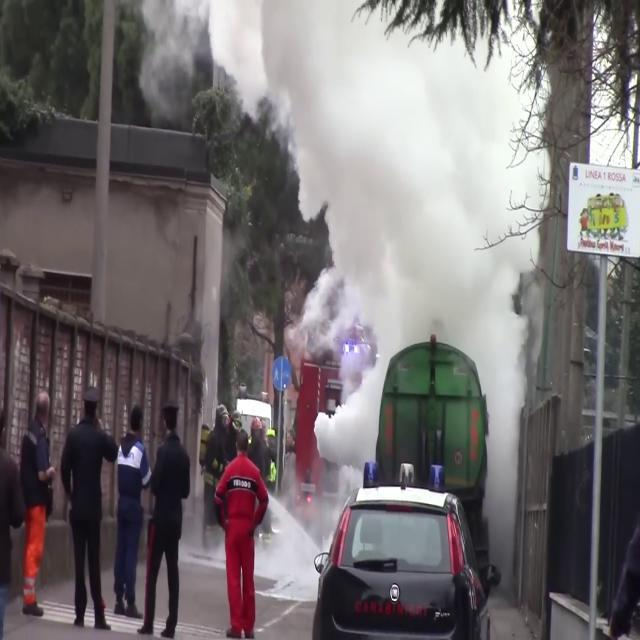Fire: (21, 501, 48, 602)
Smoke: (154, 0, 548, 362)
